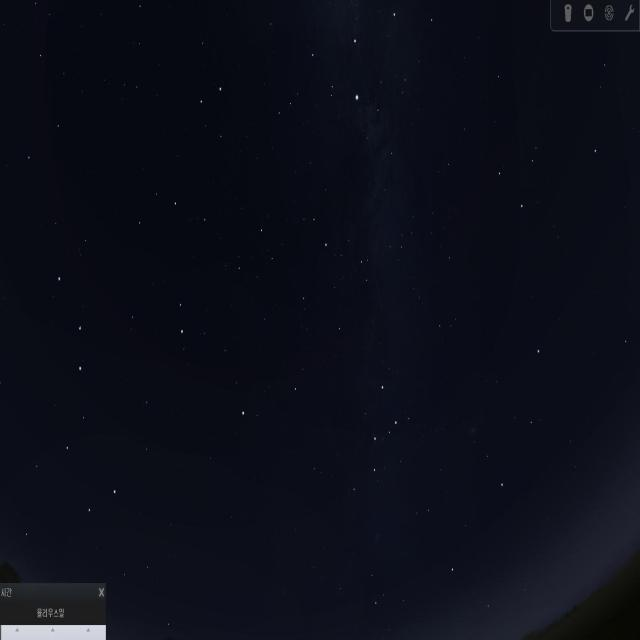cassiopeia: (353, 363, 408, 505)
cygnus: (303, 0, 403, 122)
ursa_major: (44, 272, 120, 516)
